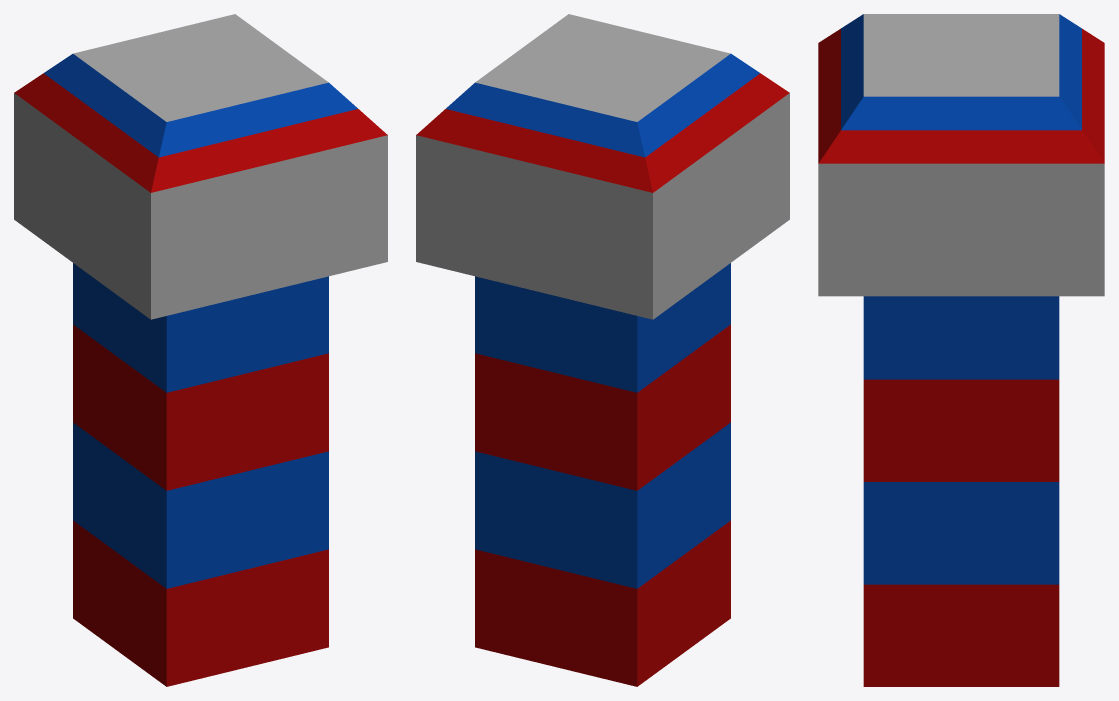
The model's file is Ronald.fbx.
3 views of the same model, side by side, from view 1: azimuth 30°, elevation 25°; view 2: azimuth 150°, elevation 25°; view 3: azimuth 270°, elevation 25° (orthographic). The views are drawn at different scales.
Visible parts, largest first — view 1: pCube6; view 2: pCube6; view 3: pCube6.
Part boxes in pixels (x1,y1,x2,y2): pCube6: (14, 14, 387, 686); pCube6: (416, 14, 789, 686); pCube6: (818, 14, 1104, 686).
Bounding box in the file's own units: 2.62 × 5.96 × 2.62.
